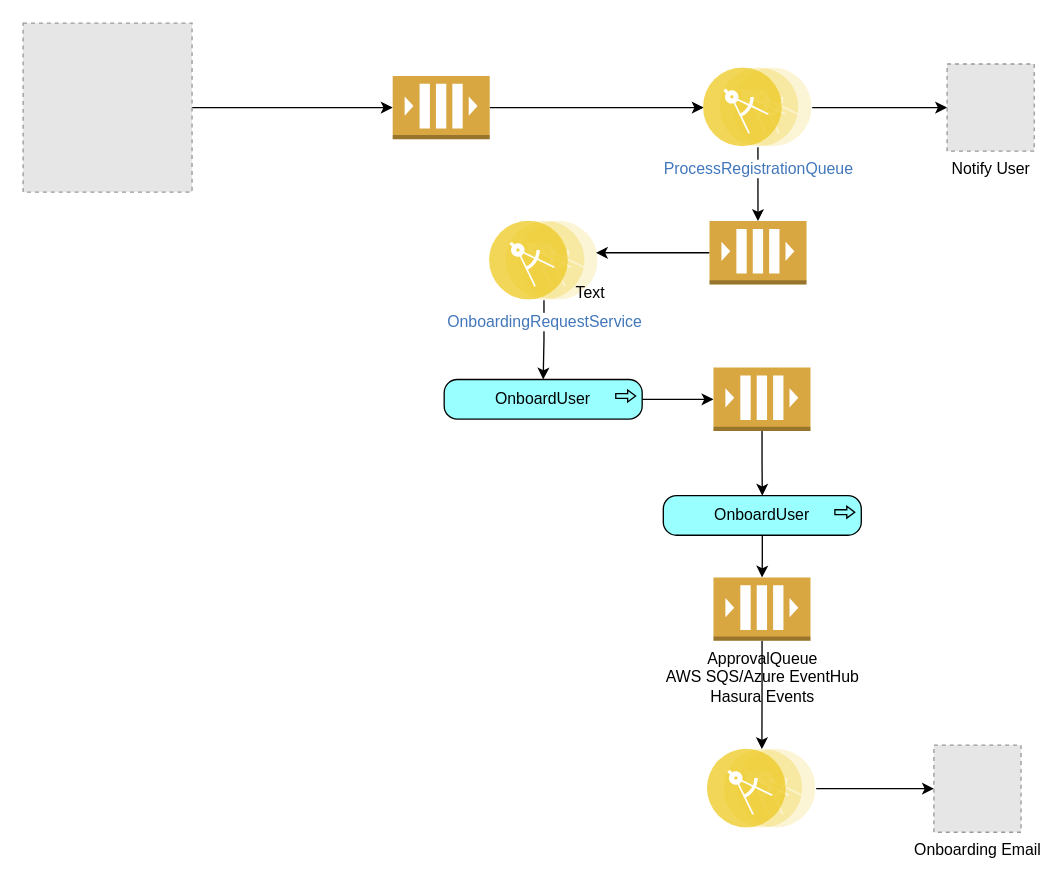
Image size: 1064x883. Some labels were removed from this diagram. Grey dashed boxes stand in for pictures. The centre of each missing label's shape, as x and y in pixels:
ApprovalQueue: (761,398)
NotificationService: (761,788)
OnboardingQueue AWS SQS/Azure EventHub Hasura Events: (757,252)
Registration Queue AWS SQS/Azure EventHub Hasura Events: (440,107)
